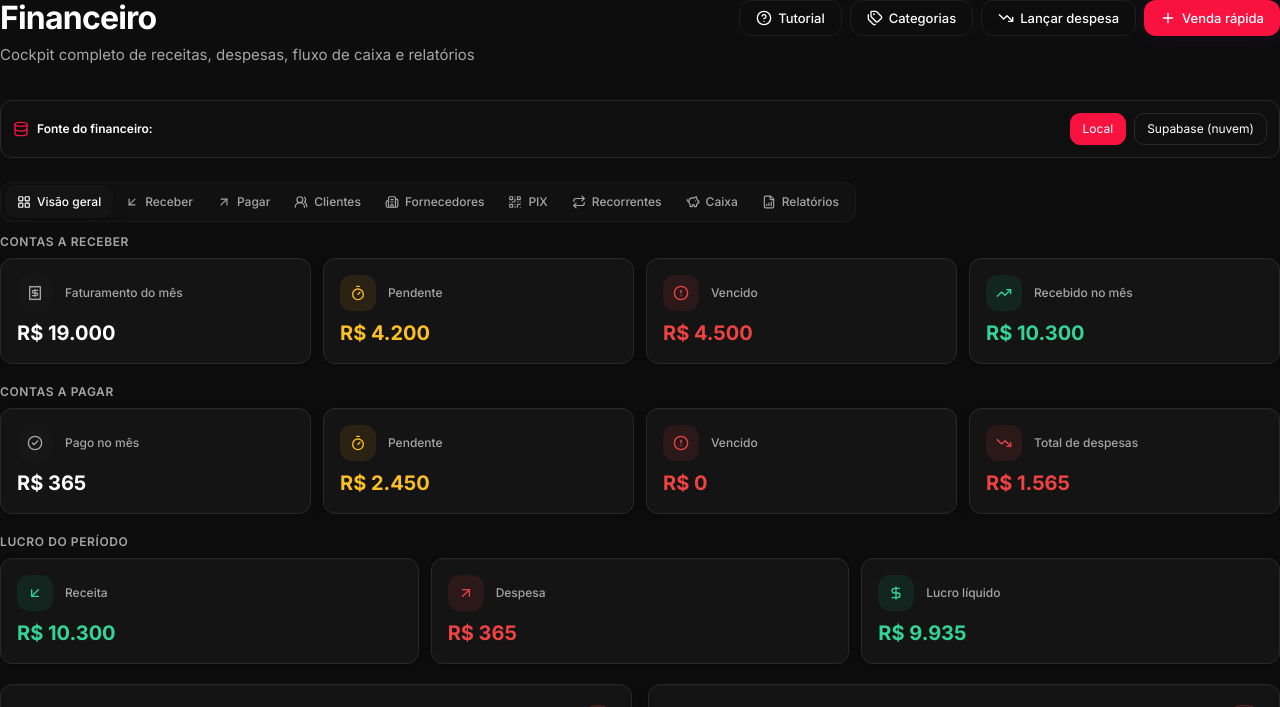
Financeiro · modo local (explícito) — zero regressão nos consumidores atuais › botões de criação continuam abrindo os diálogos locais normalmente (sem bloqueio)
What coordinates should you click on to do the following:
click the button "Venda rápida"
I would click on:
 (1212, 18)
Its box is [1144,0,1279,36].
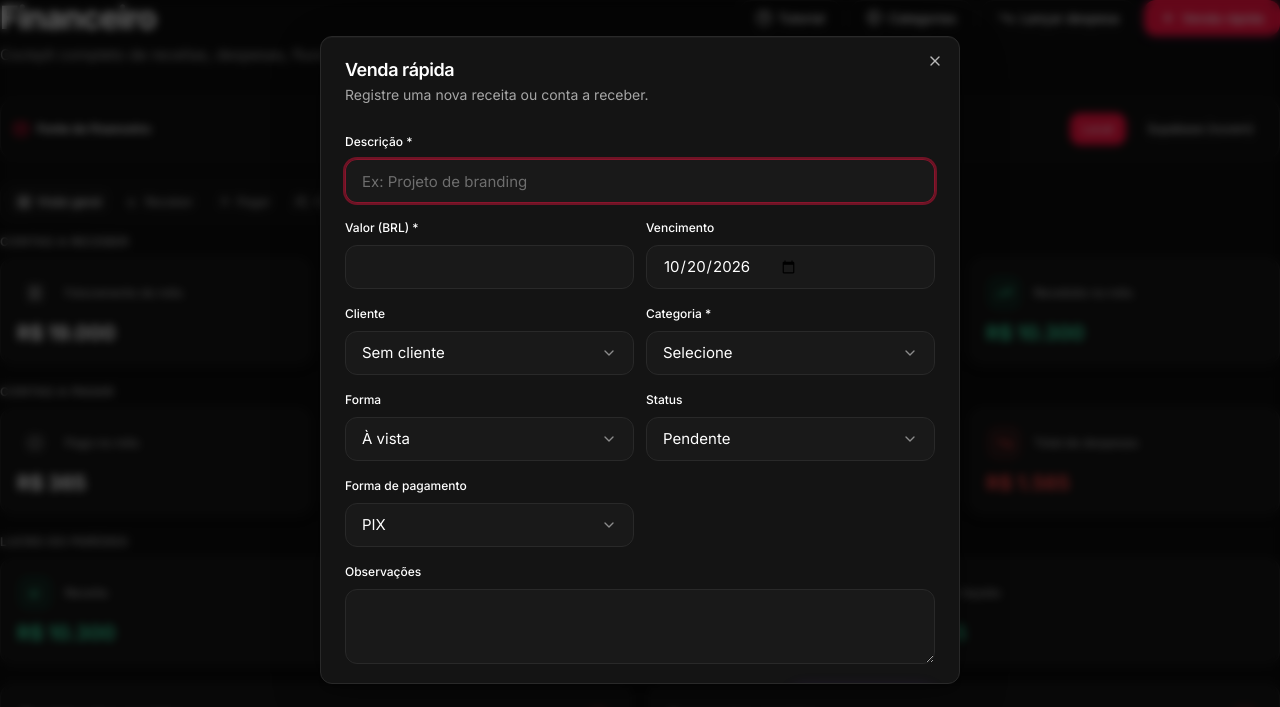
Check: the dialog is shown, box [320,36,960,684]
